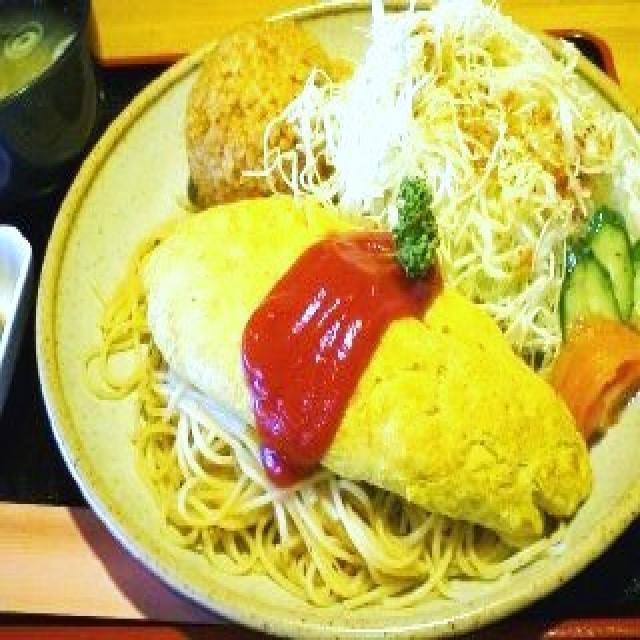Omelet: (149, 210, 587, 518)
